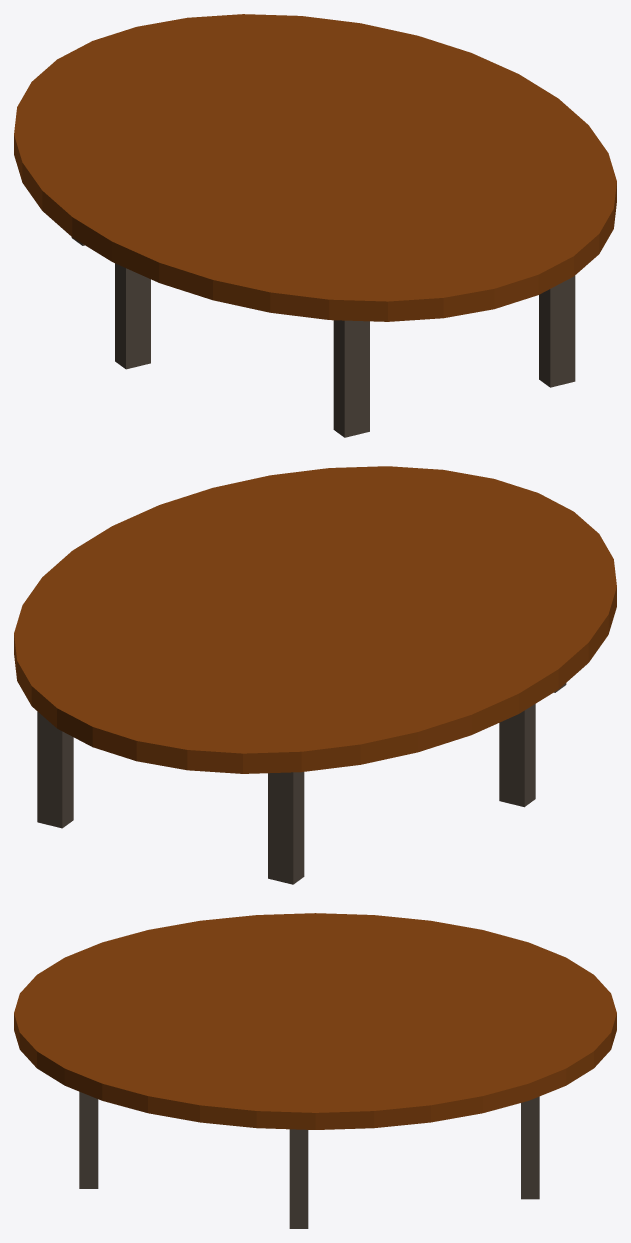
The model's file is tafel.fbx.
3 renders of one model, top to bottom at view 1: azimuth 30°, elevation 25°; view 2: azimuth 150°, elevation 25°; view 3: azimuth 270°, elevation 25°, orthographic. The views are drawn at different scales.
Visible parts, largest first — view 1: Cylinder; view 2: Cylinder; view 3: Cylinder.
Part boxes in pixels (bbox=[...]): Cylinder: bbox=[14, 14, 616, 437]; Cylinder: bbox=[14, 466, 616, 884]; Cylinder: bbox=[14, 913, 616, 1228].
Size of the model in its own units: 14235 by 4210 by 18156.
